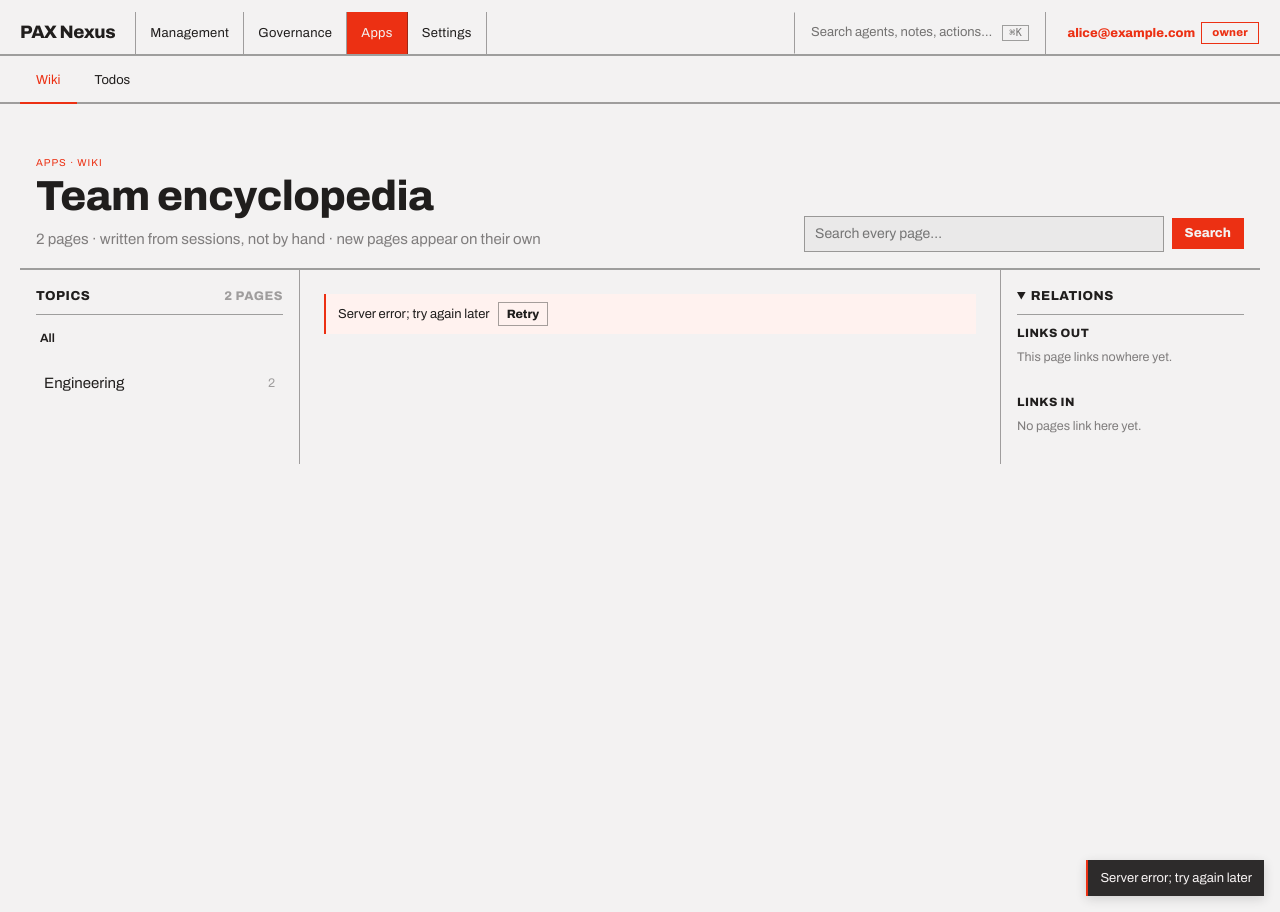
wiki browse route failure states › collapses only the article to a retryable error when a page's content fails, leaving the topic tree and relations usable
Expected: the element with class "wiki-article" shows "Server error", x1=338 y1=307 x2=490 y2=321
Expected: the button "Engineering 2" is shown, x1=36 y1=366 x2=283 y2=401
// Retry re-issues only the failed page fetch.
Click the button "Retry": (523, 314) x1=498 y1=302 x2=548 y2=326
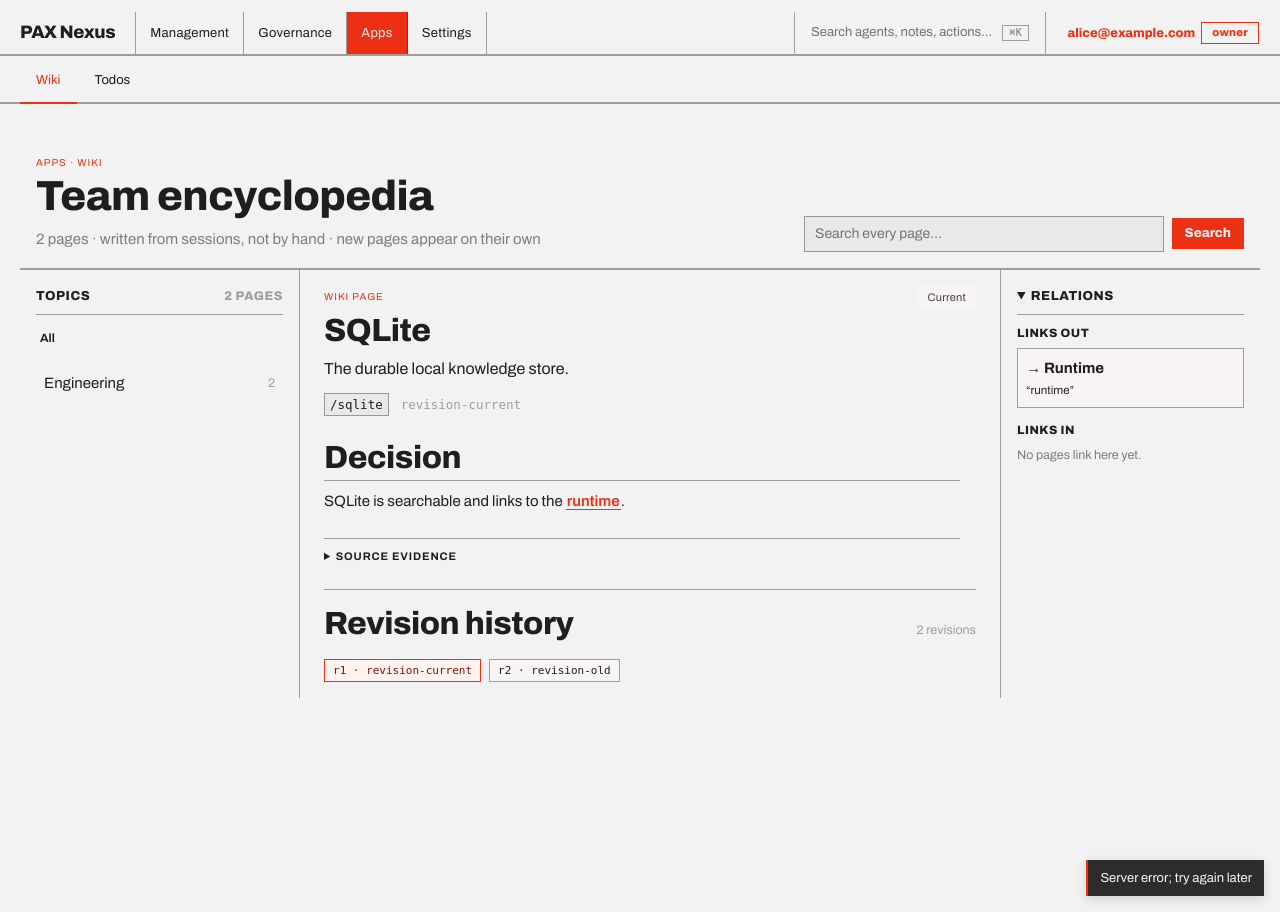
Expected: the heading "SQLite" is shown, x1=324 y1=313 x2=431 y2=348
Expected: the element with class "wiki-article" no longer shows "Server error"
